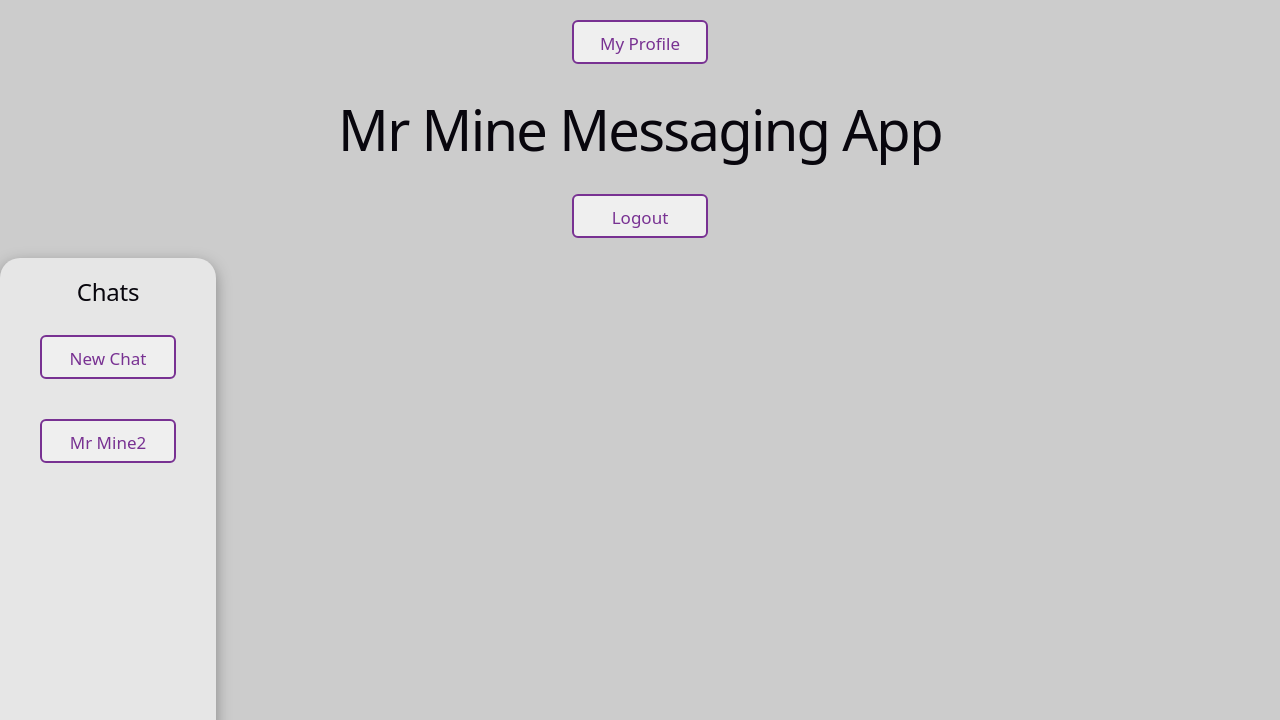
Test: Home component › opens messages when chat selected
Click the button "Mr Mine2". click: (108, 441)
box: [40,419,176,463]
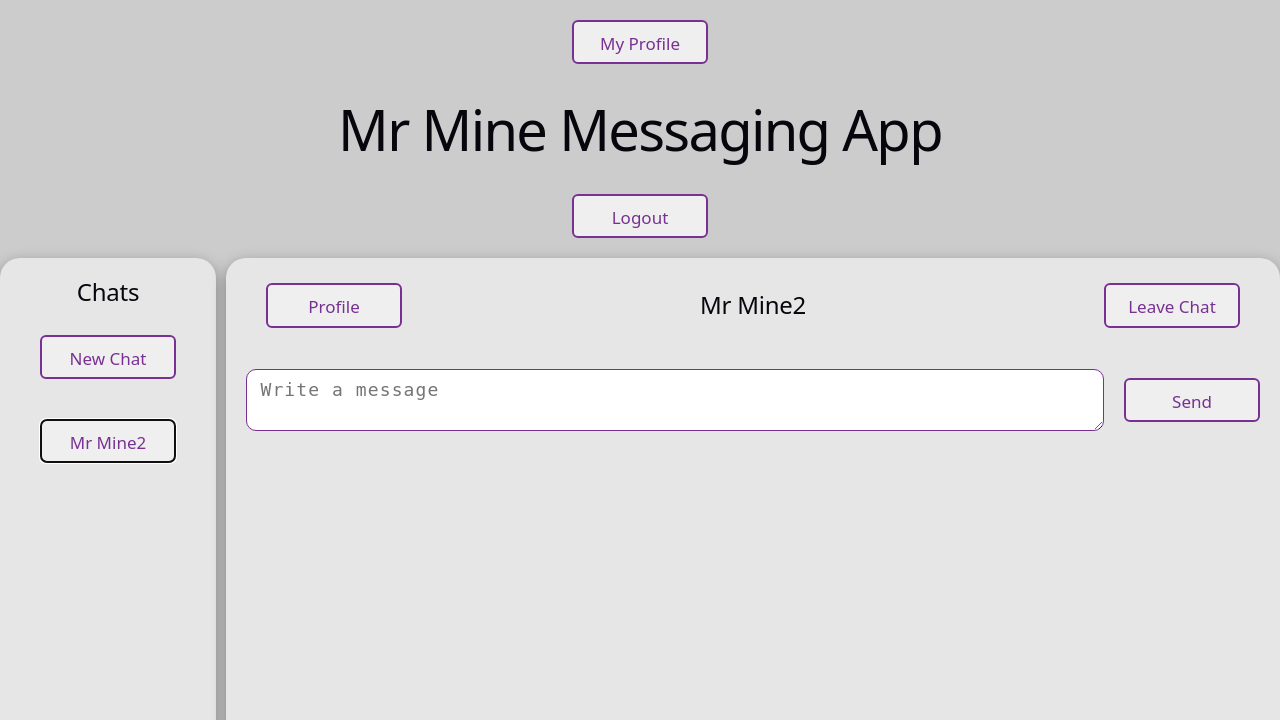
Now the heading "Mr Mine2" is shown, box [700,291,806,320]
